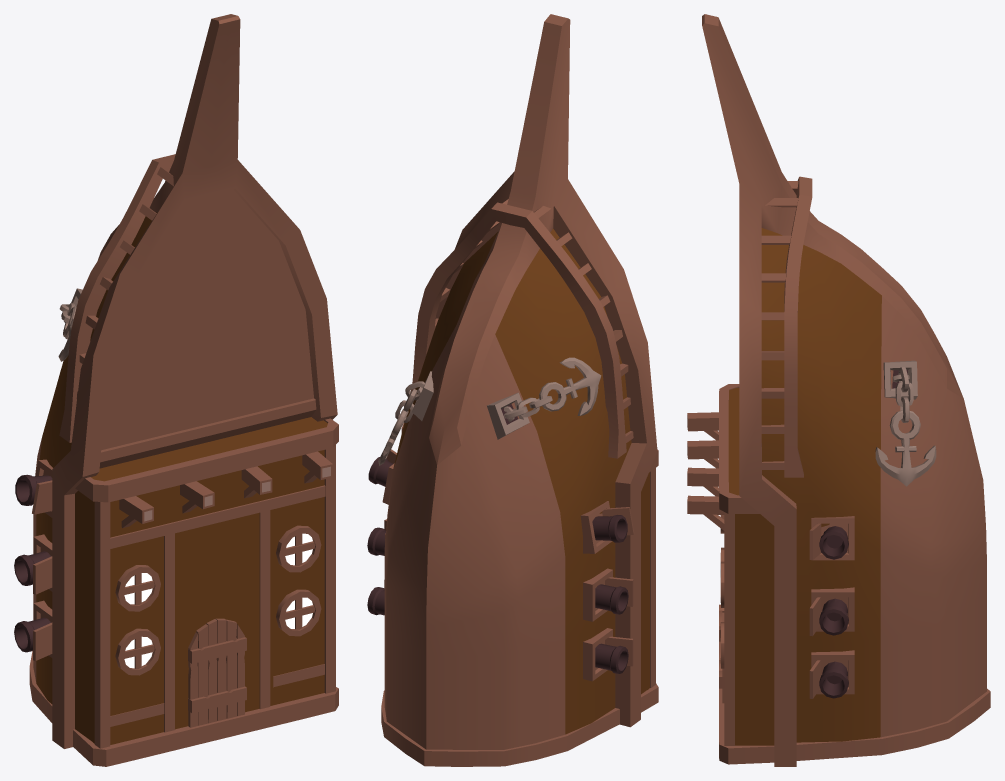
The model's file is hut-tropic.glb.
3 renders of one model, left to right at view 1: azimuth 30°, elevation 25°; view 2: azimuth 150°, elevation 25°; view 3: azimuth 270°, elevation 25°, orthographic. The views are drawn at different scales.
Parts seen in each view (by area): view 1: Environment_House2; view 2: Environment_House2; view 3: Environment_House2.
Boxes of the visible parts, bbox=[...] form: Environment_House2: bbox=[14, 14, 338, 766]; Environment_House2: bbox=[367, 14, 658, 766]; Environment_House2: bbox=[687, 14, 990, 766].
Size of the model in its own units: 3.77 by 9.38 by 3.74.
Materials: 2 (1 with a texture image).
